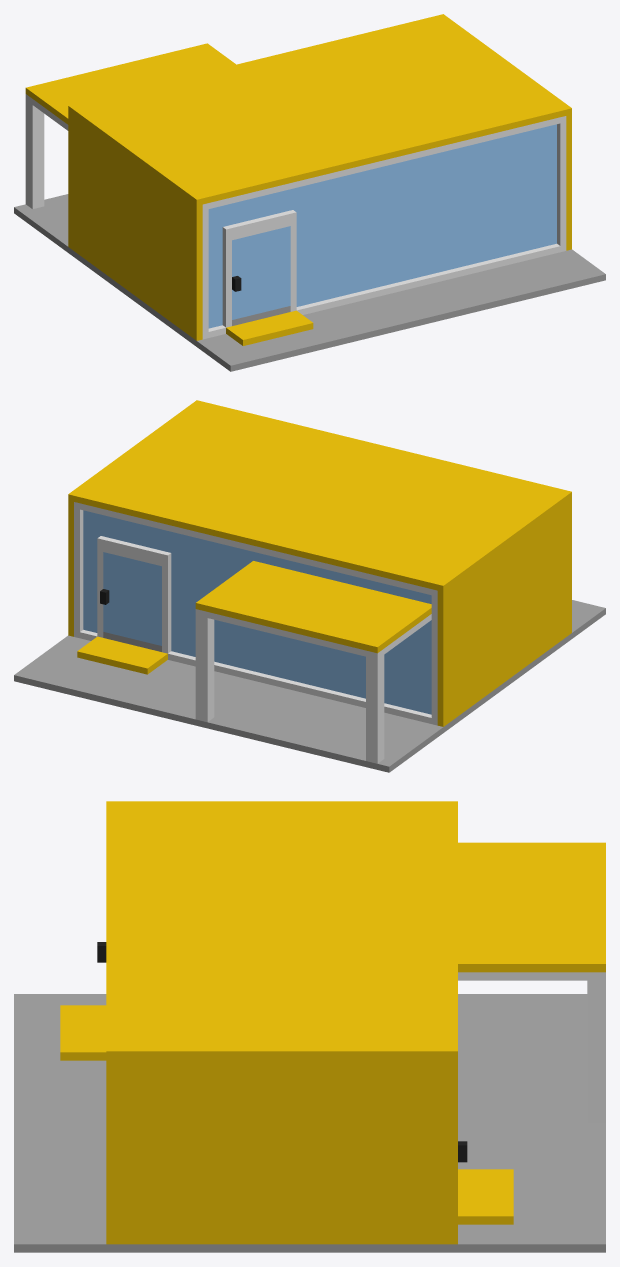
The model's file is obj_house2c.obj.
3 renders of one model, top to bottom at view 1: azimuth 30°, elevation 25°; view 2: azimuth 150°, elevation 25°; view 3: azimuth 270°, elevation 25°, orthographic. The views are drawn at different scales.
Bounding box in the file's own units: 6.4 × 2.4 × 6.4.
1 material, 1 textured.
